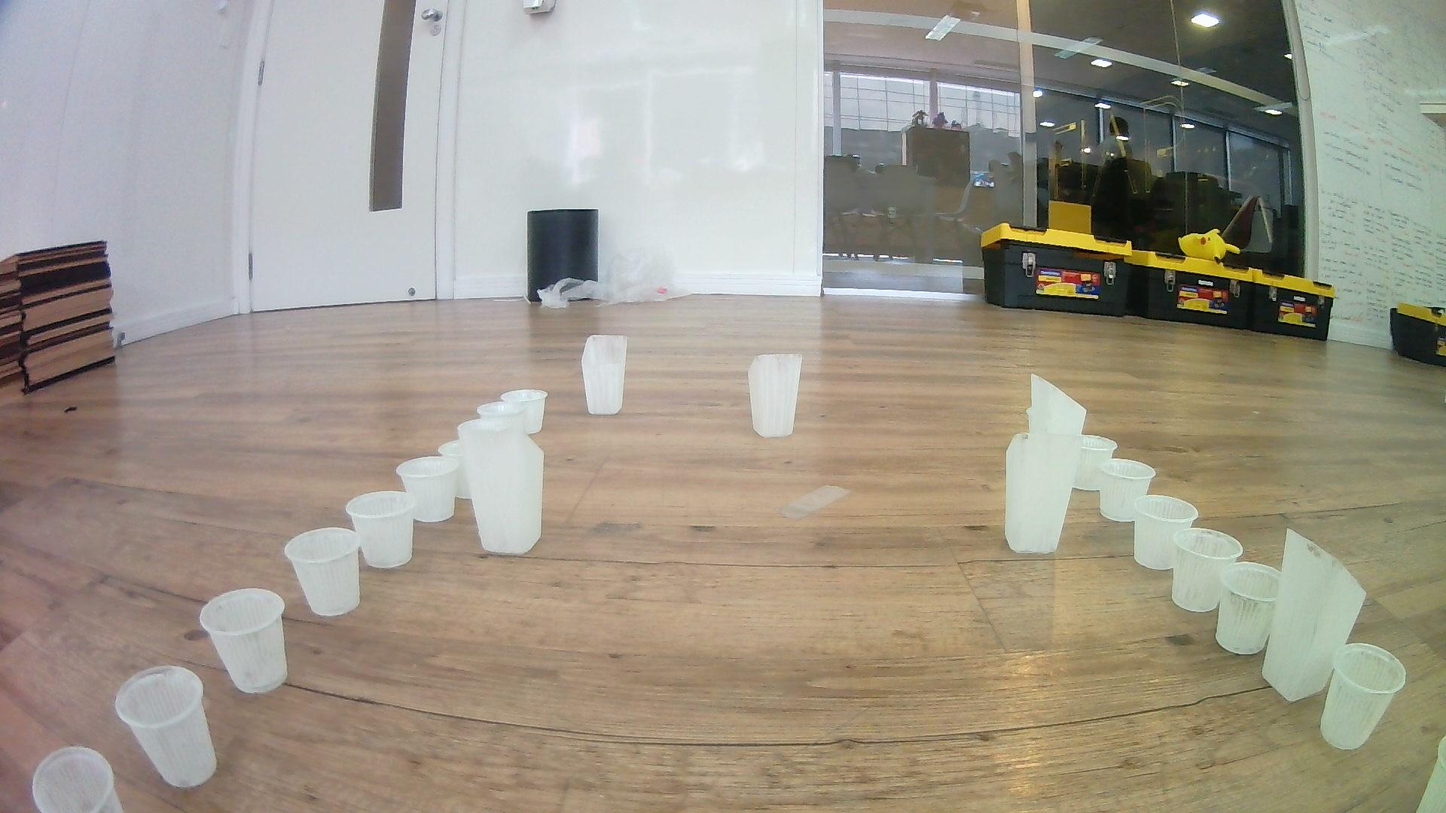erva_daninha: (1259, 526, 1367, 702), (458, 419, 545, 556), (1003, 432, 1082, 554), (747, 353, 803, 439), (1024, 373, 1088, 441), (581, 333, 628, 416)
planta: (114, 665, 218, 788), (1319, 642, 1407, 751), (199, 588, 288, 694), (284, 526, 361, 617), (31, 745, 124, 813), (1214, 562, 1282, 655), (1172, 528, 1244, 613), (344, 491, 416, 570), (1132, 494, 1199, 571), (396, 455, 460, 523), (1098, 458, 1157, 523), (1074, 435, 1120, 491), (500, 388, 548, 435), (438, 440, 471, 500), (476, 401, 526, 440)
